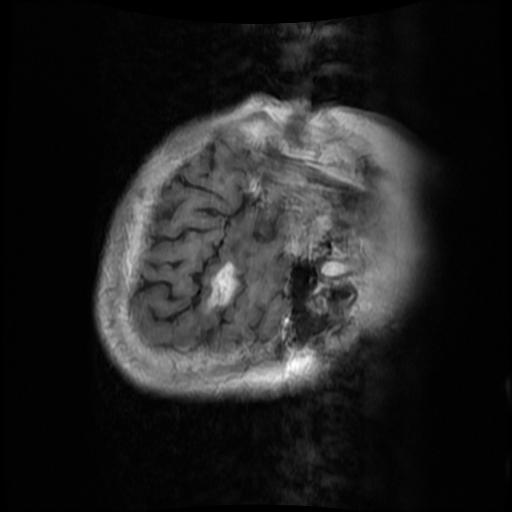glioma: (204, 258, 238, 311)
